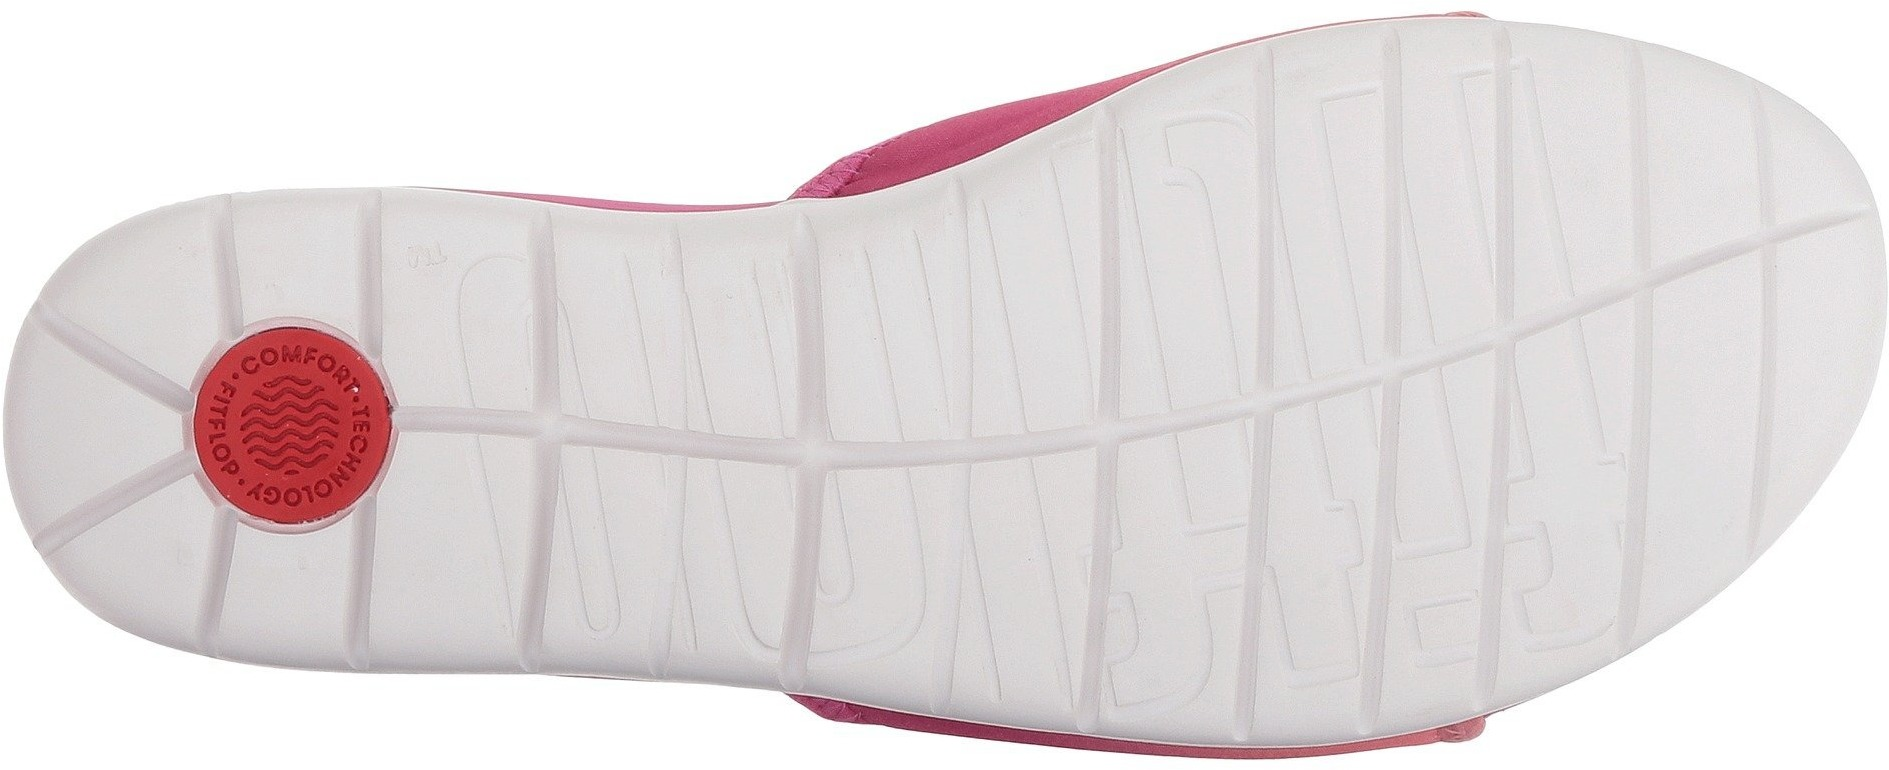chevron: (86, 176, 543, 678), (102, 223, 536, 635)
circle: (86, 176, 543, 678), (102, 223, 536, 635), (181, 311, 414, 546)
line: (86, 176, 543, 678)
quad: (985, 39, 1691, 750), (539, 210, 1057, 676), (86, 176, 543, 678), (102, 223, 536, 635)
text: (985, 39, 1691, 750), (539, 210, 1057, 676), (86, 176, 543, 678), (102, 223, 536, 635)
